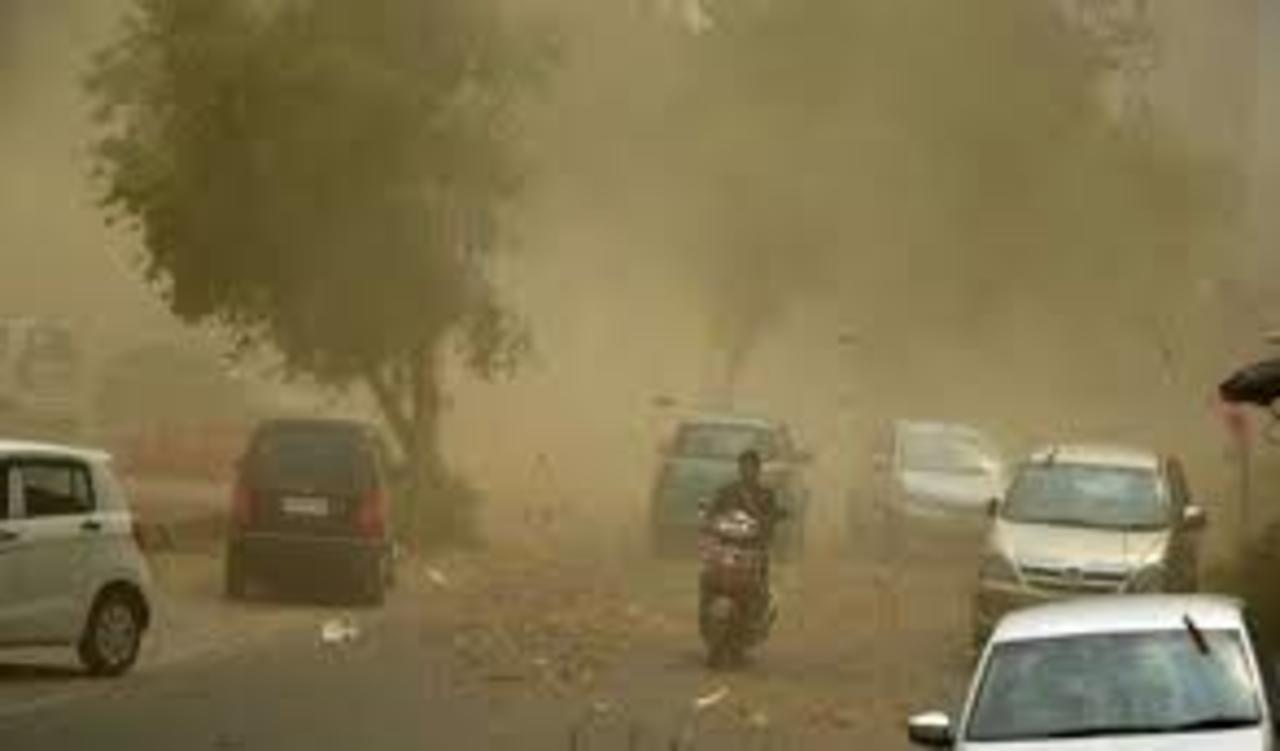car: (924, 591, 1274, 748), (2, 442, 162, 680), (984, 441, 1203, 602), (220, 415, 402, 607), (644, 412, 819, 553), (881, 420, 1015, 542)
motorcycle: (690, 495, 788, 661)
person: (692, 445, 800, 663)
